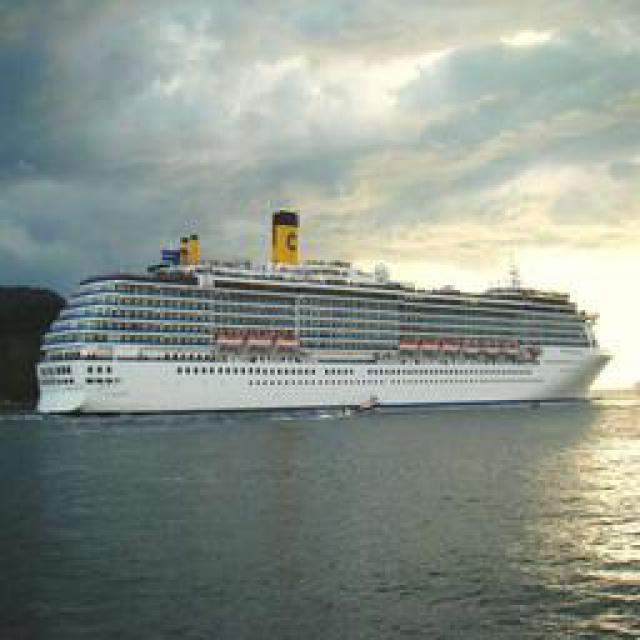Ship: (19, 271, 624, 421)
